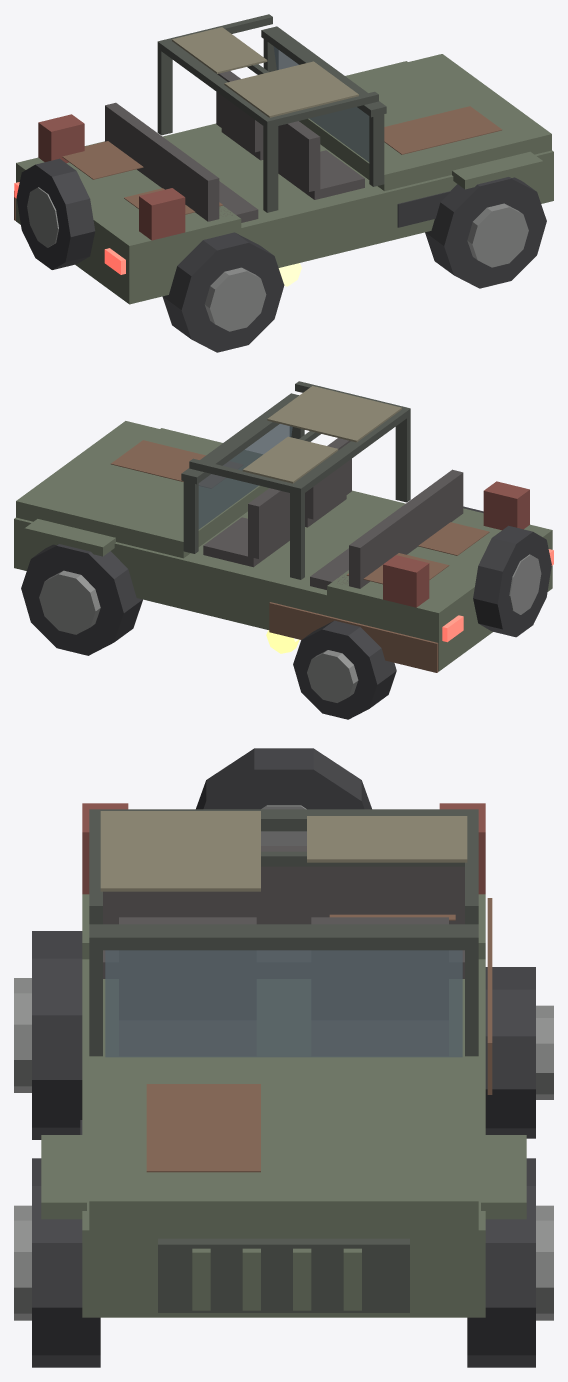
The model's file is jeep.glb.
3 renders of one model, top to bottom at view 1: azimuth 30°, elevation 25°; view 2: azimuth 150°, elevation 25°; view 3: azimuth 270°, elevation 25°, orthographic. The views are drawn at different scales.
Parts seen in each view (by area): view 1: body, wheels, decor_grim, glass, lights_red; view 2: body, wheels, decor_grim, glass, lights_amber, lights_red; view 3: body, wheels, glass, decor_grim.
Boxes of the visible parts, <box> form: body: <box>16,14,553,304</box>; wheels: <box>162,177,546,352</box>; decor_grim: <box>14,27,501,227</box>; glass: <box>273,46,369,161</box>; lights_red: <box>14,182,125,274</box>; body: <box>14,381,552,671</box>; wheels: <box>21,506,483,719</box>; decor_grim: <box>111,386,489,672</box>; glass: <box>198,424,292,529</box>; lights_amber: <box>266,630,299,653</box>; lights_red: <box>442,549,553,642</box>; body: <box>41,748,526,1317</box>; wheels: <box>14,931,553,1367</box>; glass: <box>105,950,462,1057</box>; decor_grim: <box>80,811,492,1172</box>.
Bounding box in the file's own units: 4.17 × 1.9 × 2.36.
